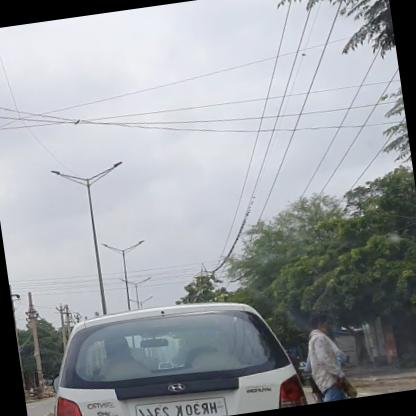car: (31, 286, 319, 415)
